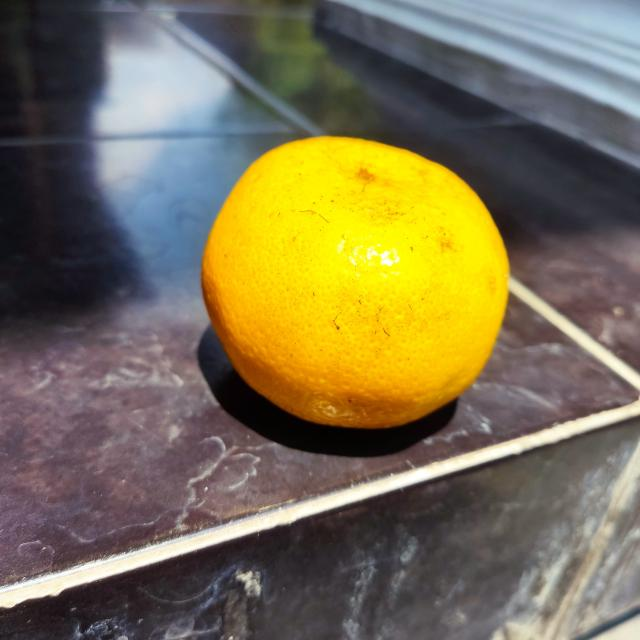orange: (199, 132, 515, 434)
